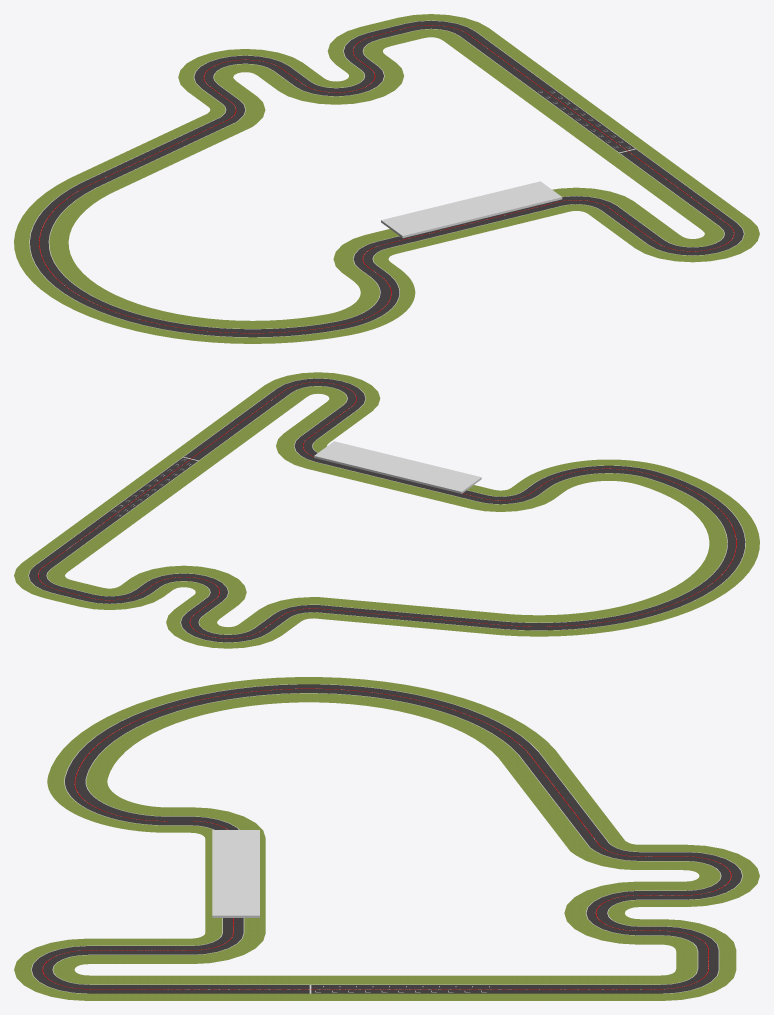
File: simple_line.dae
3 renders of one model, top to bottom at view 1: azimuth 30°, elevation 25°; view 2: azimuth 150°, elevation 25°; view 3: azimuth 270°, elevation 25°, orthographic. The views are drawn at different scales.
Parts seen in each view (by area): view 1: SketchUp.025, SketchUp.026, SketchUp.001, group_0.038, group_0.033, SketchUp.002, SketchUp; view 2: SketchUp.026, SketchUp.025, SketchUp.001, group_0.038, SketchUp, group_0.033, SketchUp.002; view 3: SketchUp.026, SketchUp.025, SketchUp.001, group_0.038, SketchUp, group_0.033, SketchUp.002.
Part boxes in pixels (x1,y1,x2,y2): SketchUp.025: (30, 20, 743, 337); SketchUp.026: (49, 29, 724, 328); SketchUp.001: (14, 14, 759, 343); group_0.038: (381, 181, 562, 237); group_0.033: (39, 25, 734, 333); SketchUp.002: (29, 20, 744, 337); SketchUp: (48, 28, 724, 329); SketchUp.026: (47, 386, 727, 634); SketchUp.025: (29, 378, 745, 642); SketchUp.001: (14, 372, 759, 648); group_0.038: (314, 441, 481, 493); SketchUp: (46, 386, 727, 634); group_0.033: (38, 382, 736, 638); SketchUp.002: (28, 378, 745, 642); SketchUp.026: (53, 693, 720, 984); SketchUp.025: (31, 684, 742, 993); SketchUp.001: (14, 677, 759, 1000); group_0.038: (212, 830, 259, 917); SketchUp: (52, 693, 721, 993); group_0.033: (42, 688, 731, 989); SketchUp.002: (31, 684, 742, 993).
Size of the model in its own units: 115 by 112 by 2.43.
Materials: 6 (2 with a texture image).
